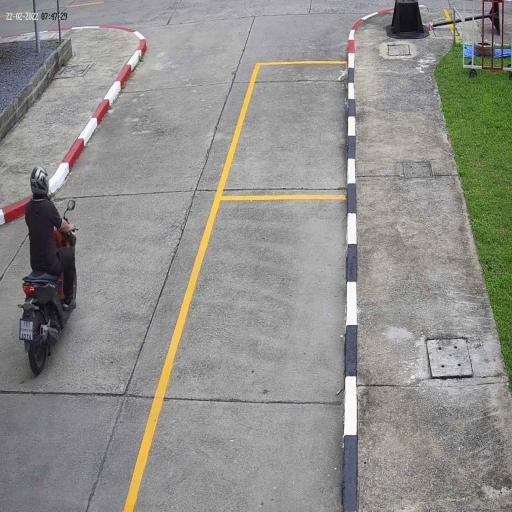motorcycle: (19, 217, 78, 375)
